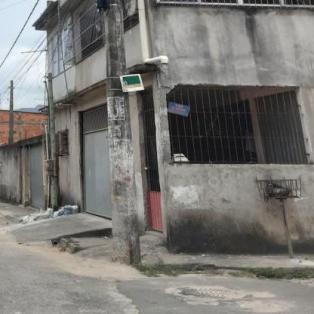Poste: (88, 0, 144, 266)
